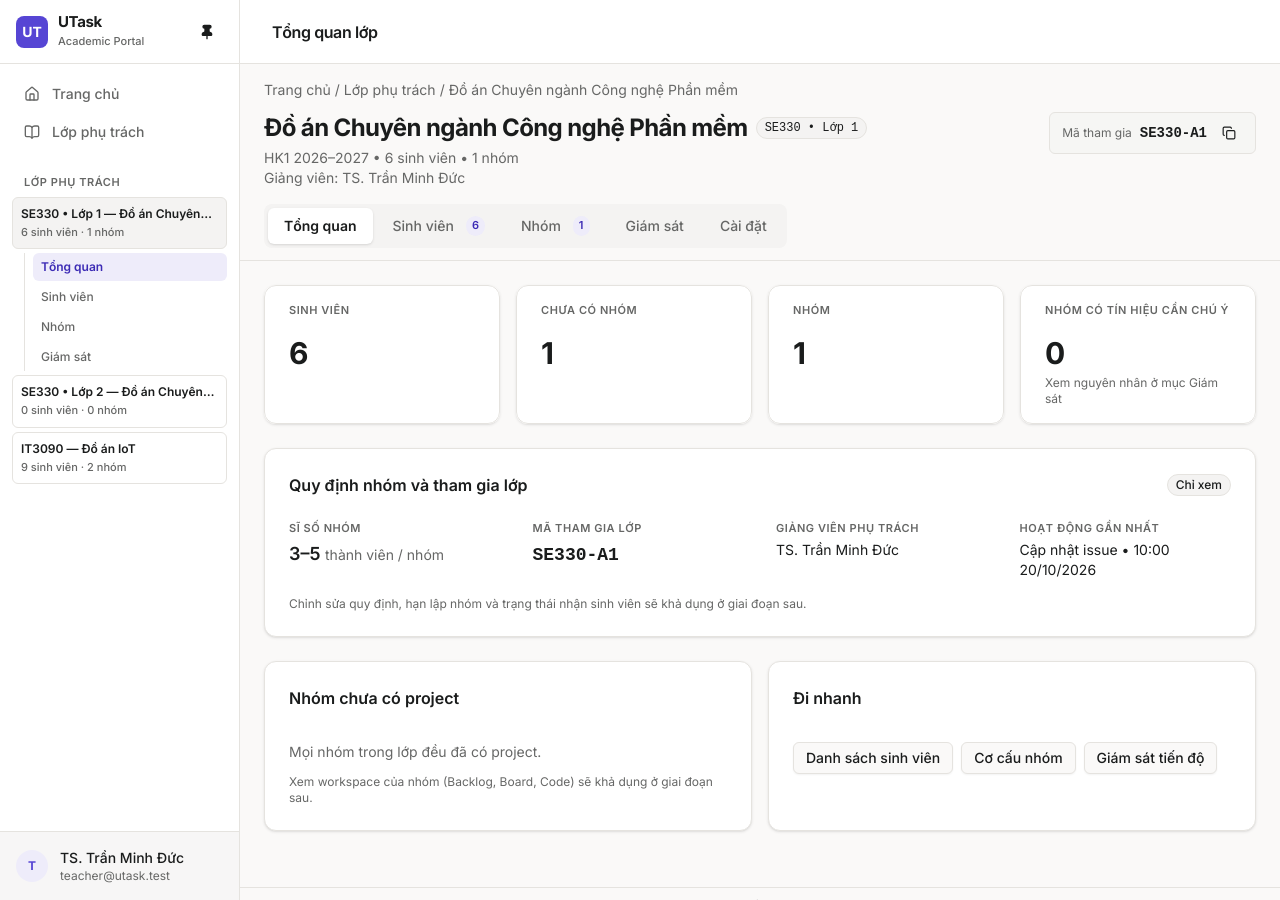
Scenario: Join code copy › reports failure instead of claiming success
The width and height of the screenshot is (1280, 900).
Click the button named "Sao chép mã tham gia" at (1229, 133), box [1215,119,1243,147]
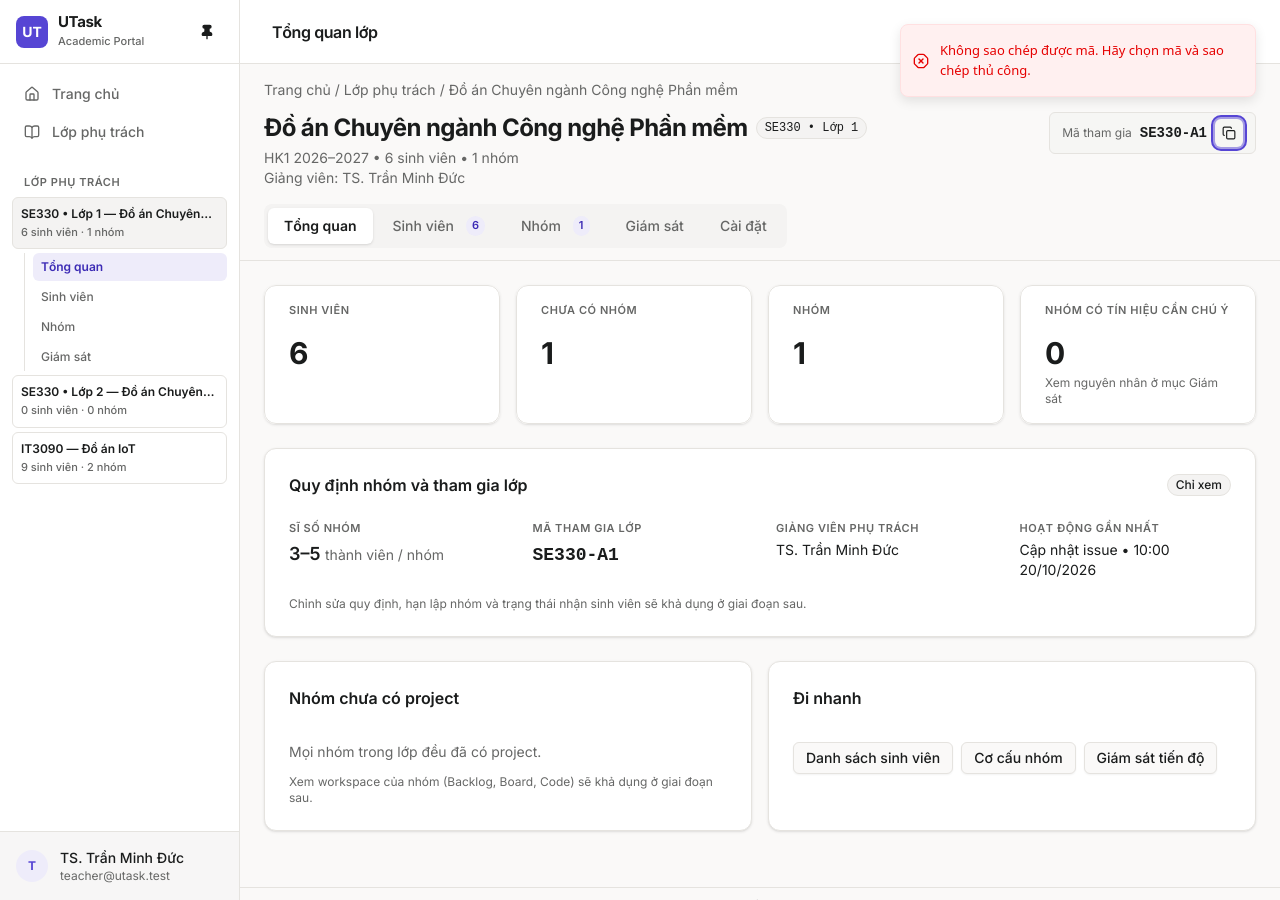
Expected: the text "Không sao chép được mã. Hãy chọn mã và sao chép thủ công." is shown, [940,41,1239,80]
